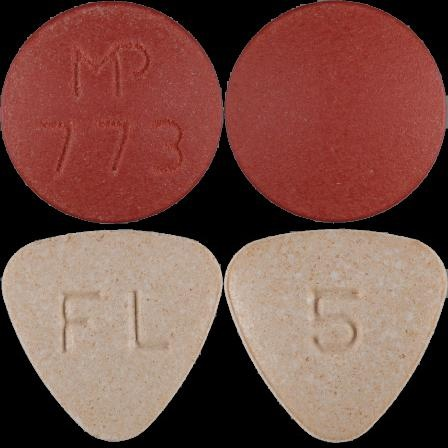50090-1125: (0, 0, 224, 224)
